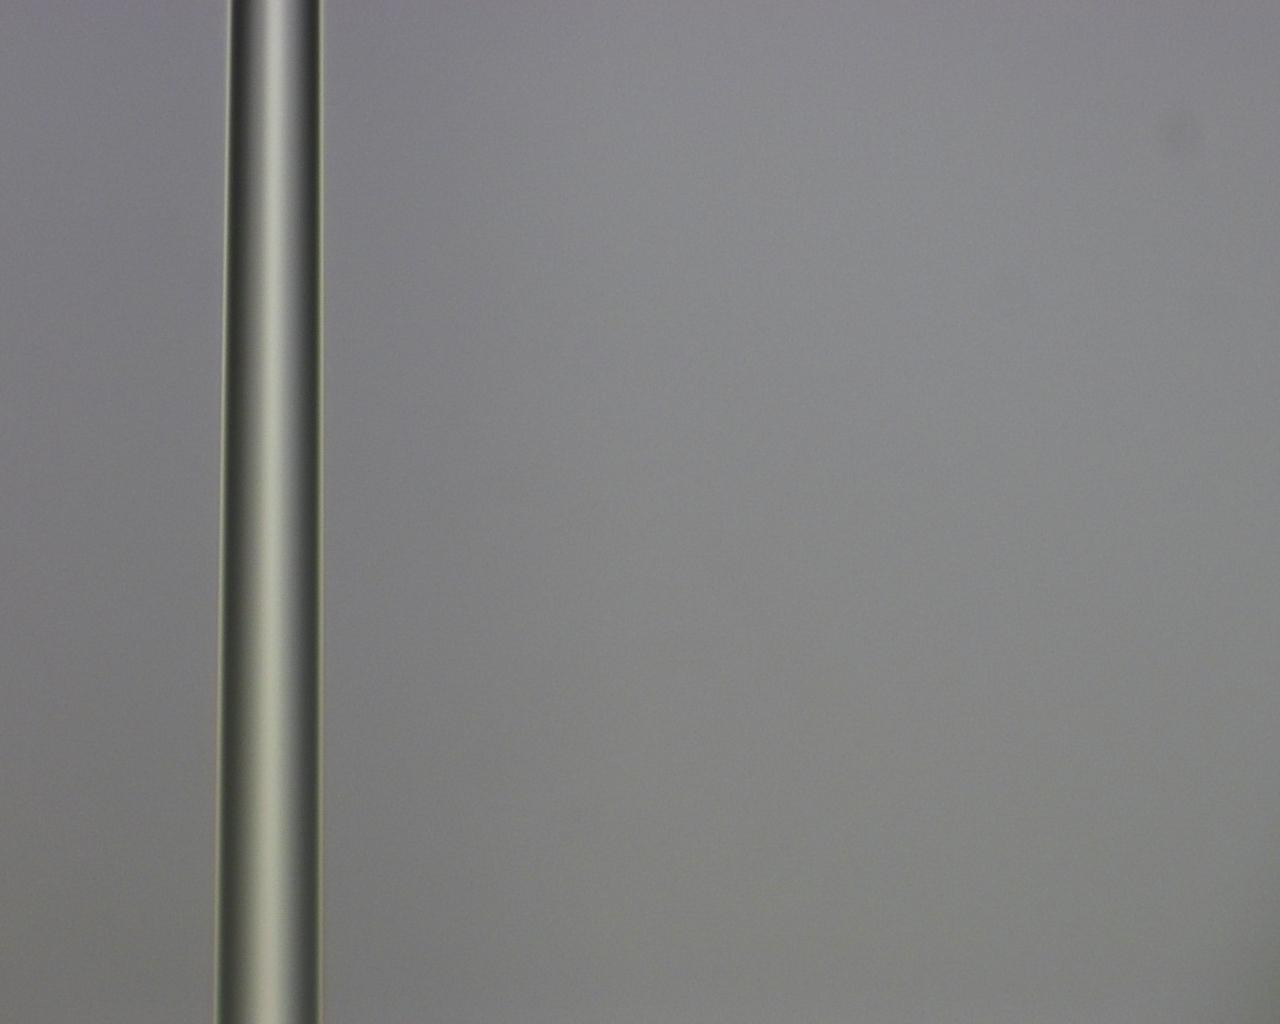fiber: (0, 728, 614, 1024), (1108, 491, 1132, 1024)
